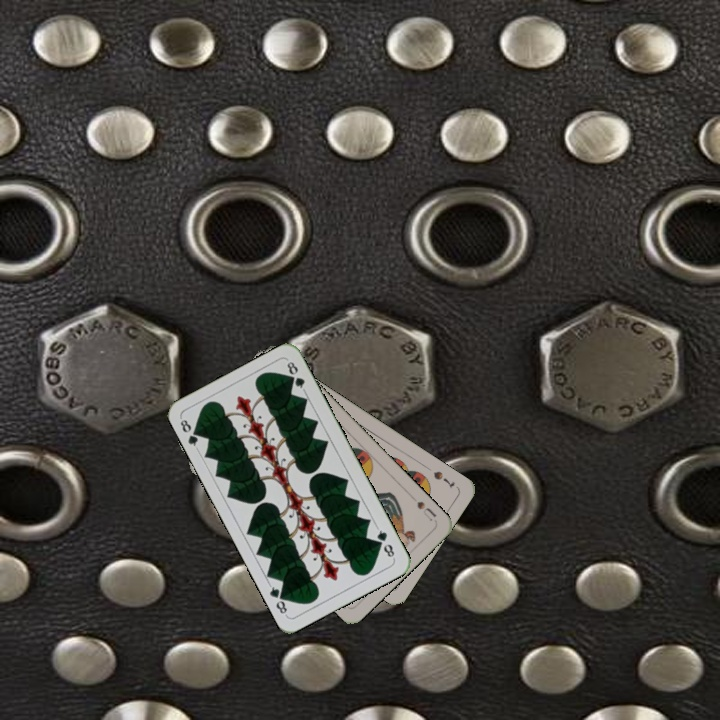G8: (176, 414, 204, 452), (373, 524, 397, 561)
S7: (429, 467, 457, 490)
SU: (413, 497, 439, 524)
